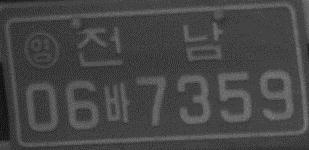0: (24, 82, 59, 132)
3: (175, 73, 212, 125)
5: (216, 72, 253, 123)
6: (64, 79, 99, 131)
7: (134, 75, 168, 128)
9: (258, 68, 294, 122)
바: (102, 82, 131, 126)
영: (23, 31, 60, 71)
전남_D: (74, 21, 223, 67)
